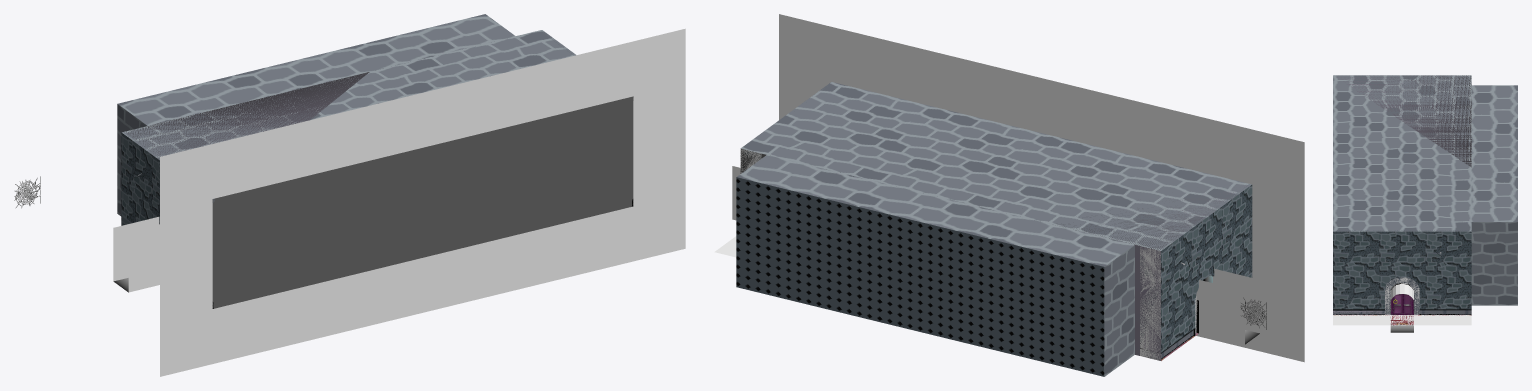
Rendered from gon_03.dae.
3 renders of one model, left to right at view 1: azimuth 30°, elevation 25°; view 2: azimuth 150°, elevation 25°; view 3: azimuth 270°, elevation 25°, orthographic. The views are drawn at different scales.
Parts seen in each view (by area): view 1: kuro3, a_kabemae, polySurface7_q033, ushiro_part0, a_ten, polySurface409_q009, polySurface412_q031_part0; view 2: polySurface79_q038, kuro3, polySurface7_q033, ushiro_part0, polySurface412_q031_part0, polySurface409_q009, a_kabeoku, polySurface918, a_ten, polySurface413_q014_part0, group37229; view 3: polySurface7_q033, ushiro_part0, polySurface63_q032_part0, a_ten, polySurface407_q031, polySurface63_q032_part1, a_kabeyoko, door02, polySurface408_q013_part0, polySurface402_q007, polySurface408_q013_part1.
Boxes of the visible parts, x1,y1,x2,y2 form: kuro3: (160,28,685,376); a_kabemae: (212,96,633,308); polySurface7_q033: (122,30,576,160); ushiro_part0: (117,14,515,216); a_ten: (126,72,369,156); polySurface409_q009: (113,217,159,292); polySurface412_q031_part0: (121,132,159,225); polySurface79_q038: (736,177,1104,376); kuro3: (779,14,1304,362); polySurface7_q033: (741,82,1251,250); ushiro_part0: (737,155,1134,376); polySurface412_q031_part0: (1161,185,1252,352); polySurface409_q009: (1197,268,1260,344); a_kabeoku: (740,149,1160,360); polySurface918: (740,148,1160,360); a_ten: (1063,185,1248,249); polySurface413_q014_part0: (1199,300,1225,339); group37229: (1240,297,1266,329); polySurface7_q033: (1333,75,1471,231); ushiro_part0: (1471,85,1517,305); polySurface63_q032_part0: (1333,231,1471,309); a_ten: (1336,75,1471,167); polySurface407_q031: (1333,314,1471,325); polySurface63_q032_part1: (1333,277,1471,314); a_kabeyoko: (1333,277,1471,314); door02: (1390,294,1413,314); polySurface408_q013_part0: (1390,284,1413,299); polySurface402_q007: (1390,322,1413,332); polySurface408_q013_part1: (1390,315,1413,325).
Bounding box in the file's own units: 110 × 40 × 40.
